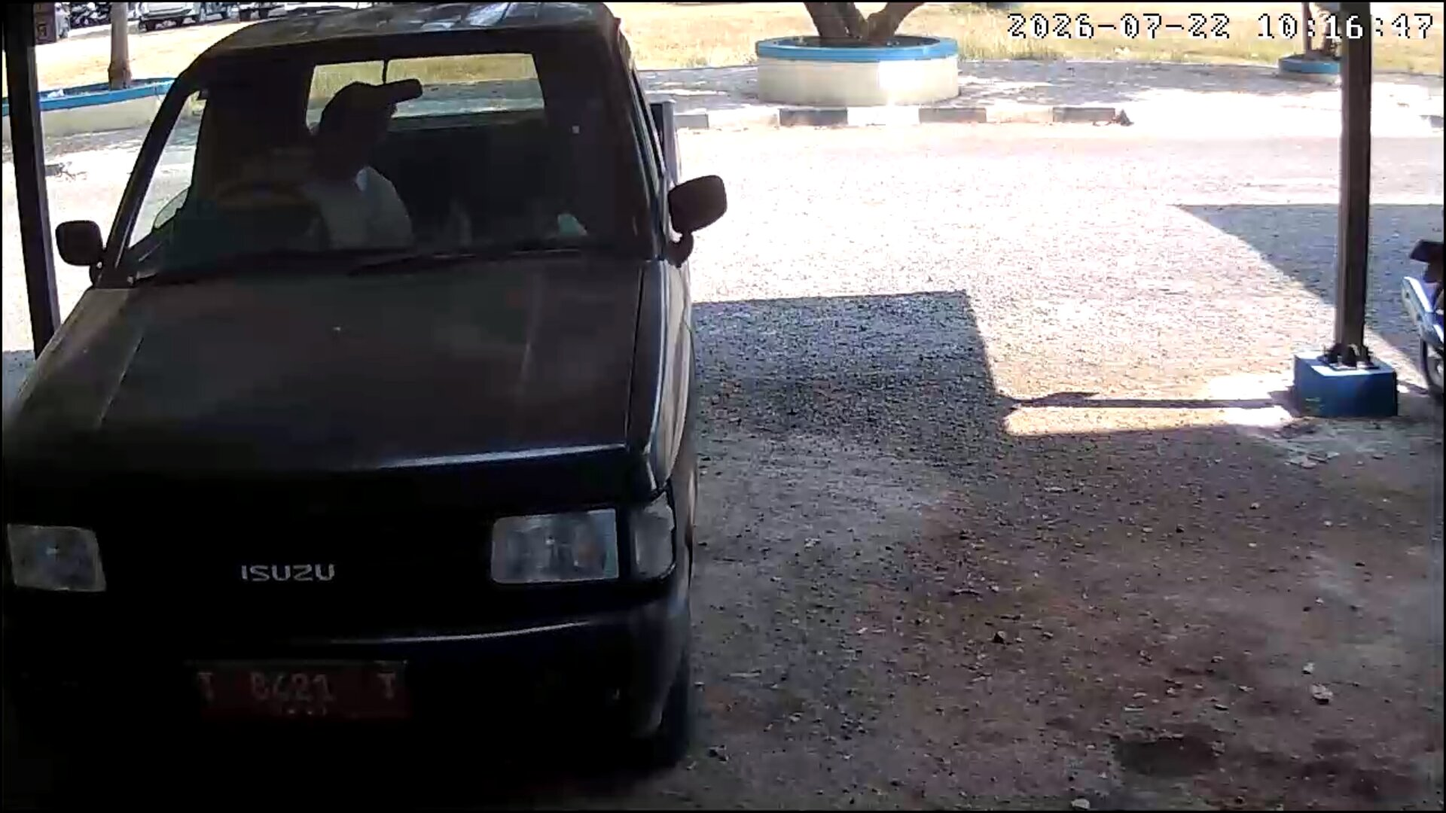plat nomor: (189, 663, 413, 723)
